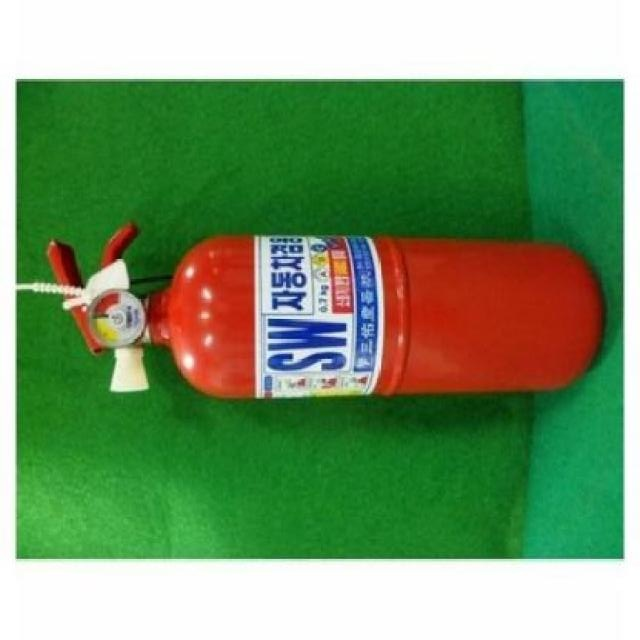fire extinguisher: (46, 220, 606, 400)
